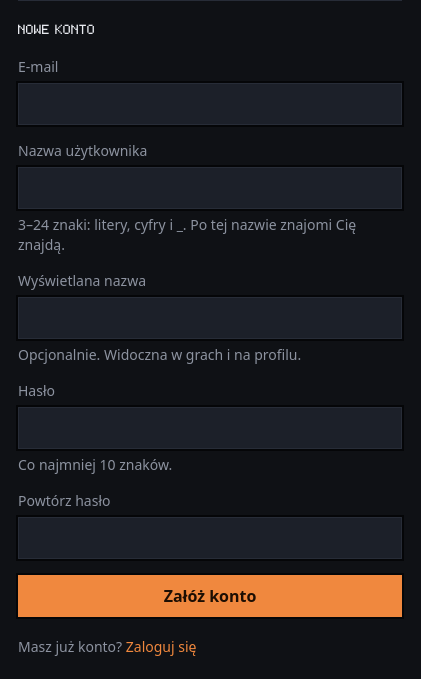
Scenario: RegisterPage › wymaga zgodnych hasel i poprawnej nazwy
Type "ania@example.com" into the field labelled "E-mail" at (210, 104), box [18,83,402,125]
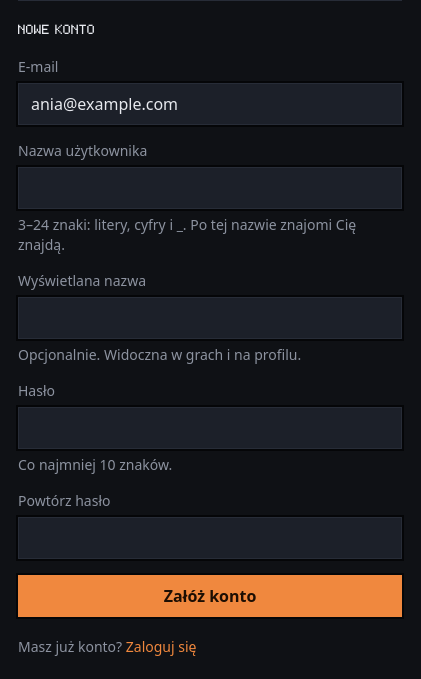
Type "a b" into the field labelled "Nazwa użytkownika" at (210, 188), box [18,167,402,209]
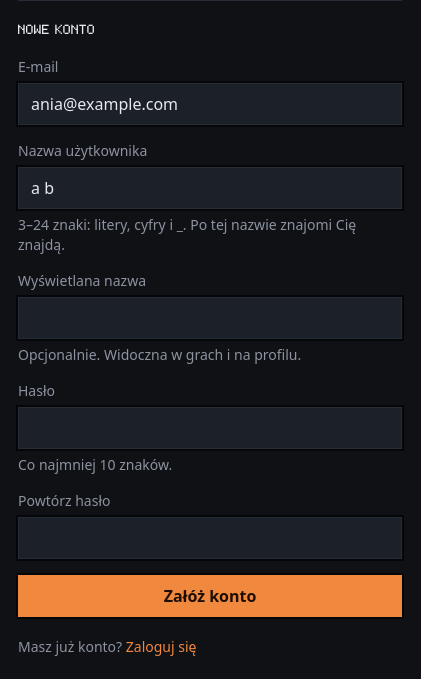
Type "dobre-haslo-123" into the password field labelled "Hasło" at (210, 428), box [18,407,402,449]
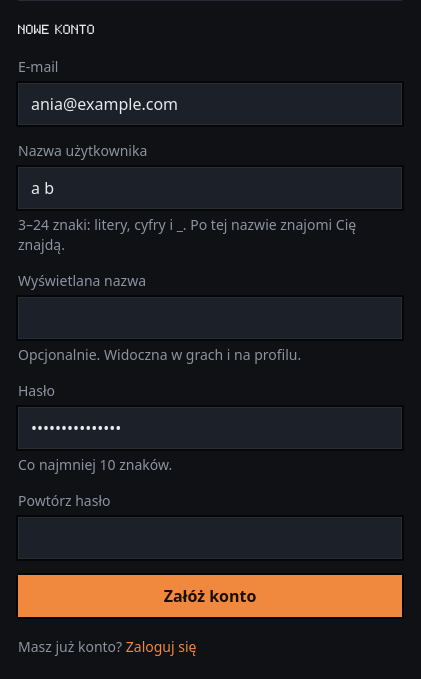
Type "inne-haslo-123" into the password field labelled "Powtórz hasło" at (210, 538), box [18,517,402,559]
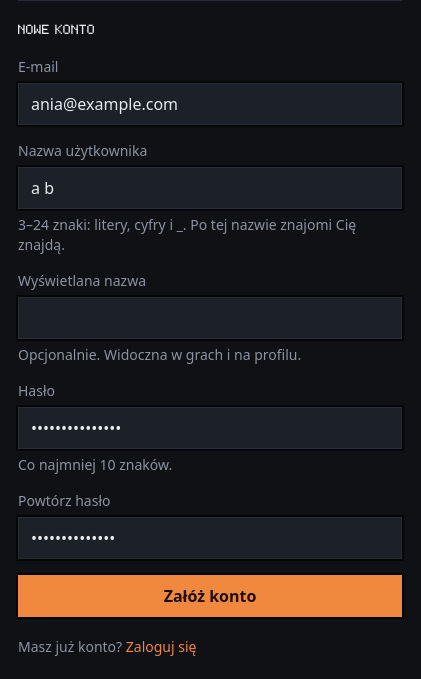
Click the button "Załóż konto" at (210, 596), box [18,575,402,617]
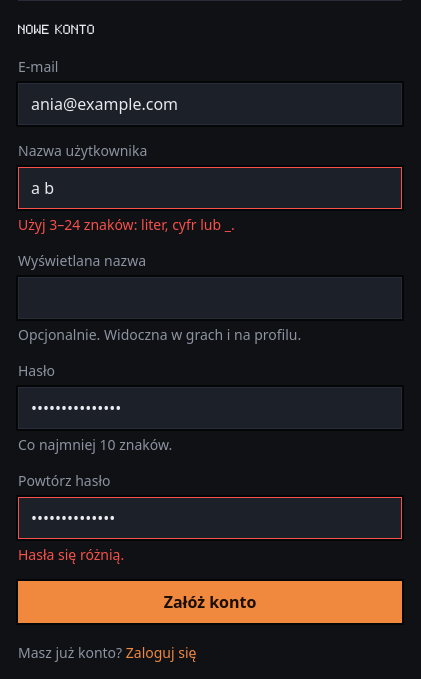
Check: the text "Hasła się różnią." is shown, box [18,545,124,564]
Check: the text "Użyj 3–24 znaków: liter, cyfr lub _." is shown, box [18,215,235,234]
